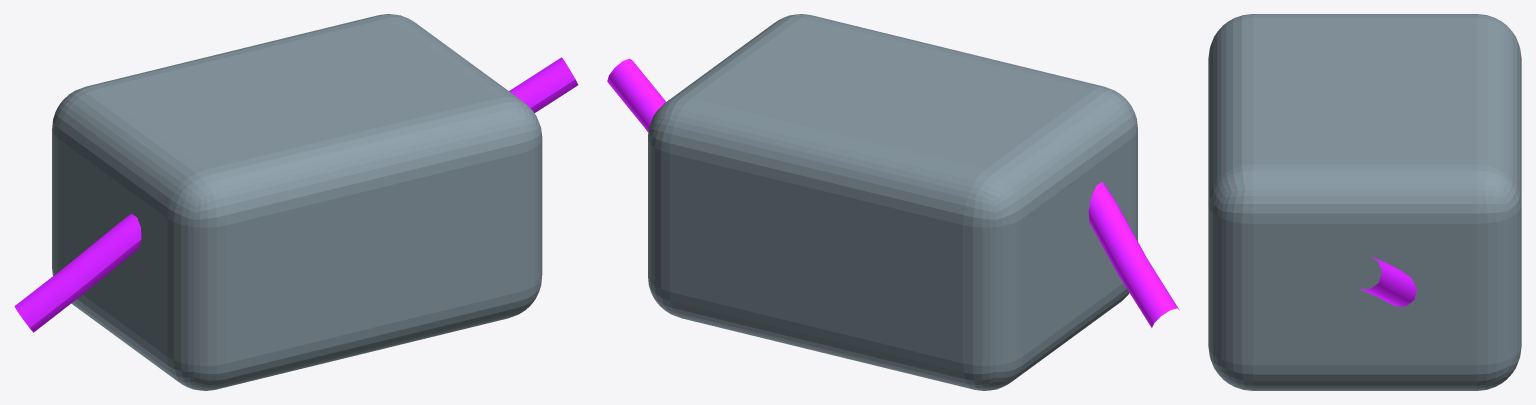
The model's file is electrical_18.glb.
3 renders of one model, left to right at view 1: azimuth 30°, elevation 25°; view 2: azimuth 150°, elevation 25°; view 3: azimuth 270°, elevation 25°, orthographic. The views are drawn at different scales.
Parts seen in each view (by area): view 1: asset_mesh__electrical_0998__reference_body, asset_mesh__electrical_1015__current_path; view 2: asset_mesh__electrical_0998__reference_body, asset_mesh__electrical_1015__current_path; view 3: asset_mesh__electrical_0998__reference_body, asset_mesh__electrical_1015__current_path.
Boxes of the visible parts, left/top/right/bottom form: asset_mesh__electrical_0998__reference_body: left=52, top=14, right=542, bottom=390; asset_mesh__electrical_1015__current_path: left=14, top=57, right=578, bottom=332; asset_mesh__electrical_0998__reference_body: left=648, top=14, right=1137, bottom=390; asset_mesh__electrical_1015__current_path: left=607, top=58, right=1179, bottom=327; asset_mesh__electrical_0998__reference_body: left=1208, top=14, right=1521, bottom=390; asset_mesh__electrical_1015__current_path: left=1360, top=256, right=1416, bottom=306.
Size of the model in its own units: 1.64 by 0.6048 by 0.7728.
